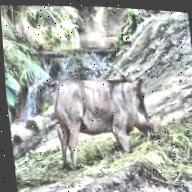boar: (47, 56, 168, 161)
